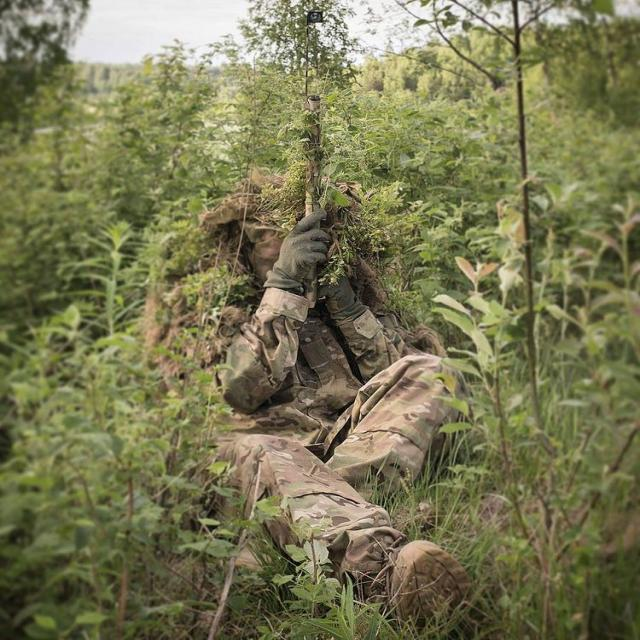human: (203, 162, 468, 618)
